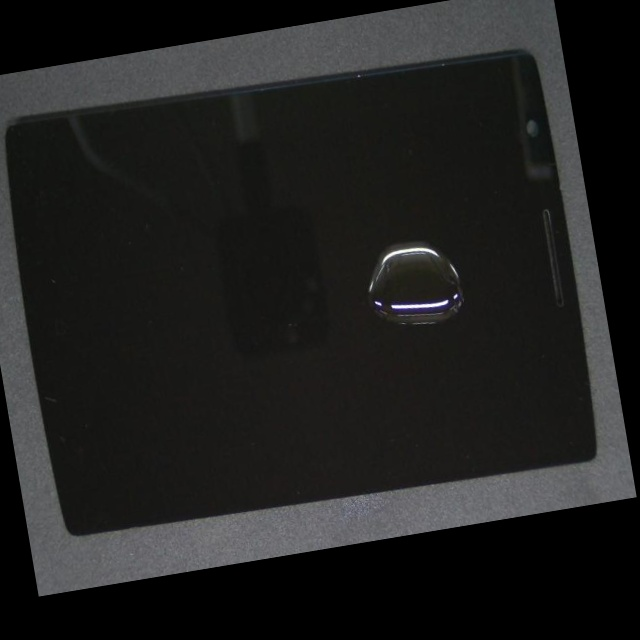oil: (228, 109, 609, 388)
